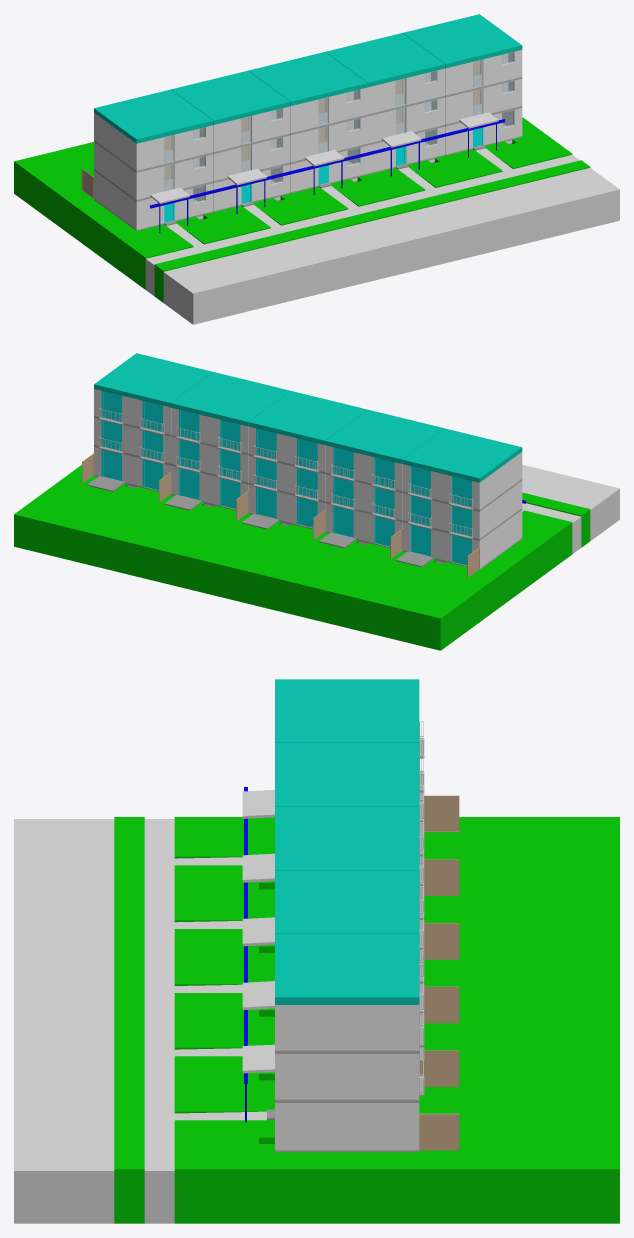
3 renders of one model, top to bottom at view 1: azimuth 30°, elevation 25°; view 2: azimuth 150°, elevation 25°; view 3: azimuth 270°, elevation 25°, orthographic. The views are drawn at different scales.
Visible parts, largest first — view 1: 0J0N7t$M1A0AihSbRPu7Ay, 2zs0H1sOLALg5yft6VEUpf, 0s7$cUtFH35fvHyNNQznOg, 0bkc0mtzD0D9eFYKRovQR4, 3ej1GP$WL4eQZ6cZ35x41z, 0TDye8xYn3kgd3hFqcneWJ, 3e3tYgh$TDDgtUPYoHkfWp, 3LvCR8tPr4Ew7wZXSMele6, 1vWvhwodz6kO57L1qYq7Pq, 2MXp30c_16cel5w3ARqyYL, 04AHiTxLPEO8vEI57pC7Rc, 2H4Pwq05PEi8oUGw141y4X (+16 smaller); view 2: 2zs0H1sOLALg5yft6VEUpf, 3ej1GP$WL4eQZ6cZ35x41z, 1vWvhwodz6kO57L1qYq7Pq, 3LvCR8tPr4Ew7wZXSMele6, 3e3tYgh$TDDgtUPYoHkfWp, 0TDye8xYn3kgd3hFqcneWJ, 0J0N7t$M1A0AihSbRPu7Ay, 3wBk2gWUr7cxxX6up2TEKc, 3pfblLrijBK9SIMbDz6WH5, 392141S2v0pO$YKAddJeik, 1HVnuJQCT3dO0iq6SpAzHj, 2bw7aE2bD2wQIr6Z1HwmXj (+45 smaller); view 3: 2zs0H1sOLALg5yft6VEUpf, 0J0N7t$M1A0AihSbRPu7Ay, 0s7$cUtFH35fvHyNNQznOg, 0bkc0mtzD0D9eFYKRovQR4, 0TDye8xYn3kgd3hFqcneWJ, 3LvCR8tPr4Ew7wZXSMele6, 3ej1GP$WL4eQZ6cZ35x41z, 3e3tYgh$TDDgtUPYoHkfWp, 1vWvhwodz6kO57L1qYq7Pq, 0apDtFkEXFcRF2pa86fcBR, 1u7w$7OzHDQOsTHCz9$yL6, 3VhIFuIUX9uRtcE5j_Rceb (+12 smaller).
Boxes of the visible parts, x1,y1,x2,y2 form: 0J0N7t$M1A0AihSbRPu7Ay: [163, 168, 619, 324]; 2zs0H1sOLALg5yft6VEUpf: [14, 117, 572, 289]; 0s7$cUtFH35fvHyNNQznOg: [154, 160, 590, 302]; 0bkc0mtzD0D9eFYKRovQR4: [145, 154, 579, 296]; 3ej1GP$WL4eQZ6cZ35x41z: [94, 89, 213, 143]; 0TDye8xYn3kgd3hFqcneWJ: [403, 14, 522, 68]; 3e3tYgh$TDDgtUPYoHkfWp: [171, 70, 290, 124]; 3LvCR8tPr4Ew7wZXSMele6: [248, 52, 367, 105]; 1vWvhwodz6kO57L1qYq7Pq: [326, 33, 444, 87]; 2MXp30c_16cel5w3ARqyYL: [136, 125, 213, 170]; 04AHiTxLPEO8vEI57pC7Rc: [445, 50, 522, 95]; 2H4Pwq05PEi8oUGw141y4X: [213, 106, 290, 151]; 2zs0H1sOLALg5yft6VEUpf: [14, 465, 572, 650]; 3ej1GP$WL4eQZ6cZ35x41z: [402, 428, 522, 482]; 1vWvhwodz6kO57L1qYq7Pq: [171, 372, 290, 426]; 3LvCR8tPr4Ew7wZXSMele6: [248, 391, 367, 444]; 3e3tYgh$TDDgtUPYoHkfWp: [325, 409, 444, 463]; 0TDye8xYn3kgd3hFqcneWJ: [94, 353, 212, 407]; 0J0N7t$M1A0AihSbRPu7Ay: [522, 464, 619, 540]; 3wBk2gWUr7cxxX6up2TEKc: [479, 510, 522, 568]; 3pfblLrijBK9SIMbDz6WH5: [479, 481, 522, 538]; 392141S2v0pO$YKAddJeik: [479, 452, 522, 509]; 1HVnuJQCT3dO0iq6SpAzHj: [325, 445, 402, 490]; 2bw7aE2bD2wQIr6Z1HwmXj: [325, 474, 402, 519]; 2zs0H1sOLALg5yft6VEUpf: [174, 817, 619, 1223]; 0J0N7t$M1A0AihSbRPu7Ay: [14, 819, 114, 1223]; 0s7$cUtFH35fvHyNNQznOg: [114, 817, 144, 1223]; 0bkc0mtzD0D9eFYKRovQR4: [144, 819, 174, 1223]; 0TDye8xYn3kgd3hFqcneWJ: [275, 934, 419, 1004]; 3LvCR8tPr4Ew7wZXSMele6: [275, 806, 419, 870]; 3ej1GP$WL4eQZ6cZ35x41z: [275, 679, 419, 742]; 3e3tYgh$TDDgtUPYoHkfWp: [275, 743, 419, 806]; 1vWvhwodz6kO57L1qYq7Pq: [275, 870, 419, 933]; 0apDtFkEXFcRF2pa86fcBR: [275, 1103, 419, 1150]; 1u7w$7OzHDQOsTHCz9$yL6: [275, 1054, 419, 1099]; 3VhIFuIUX9uRtcE5j_Rceb: [275, 1005, 419, 1050].
Bounding box in the file's own units: 41.49 × 11.51 × 30.18.
